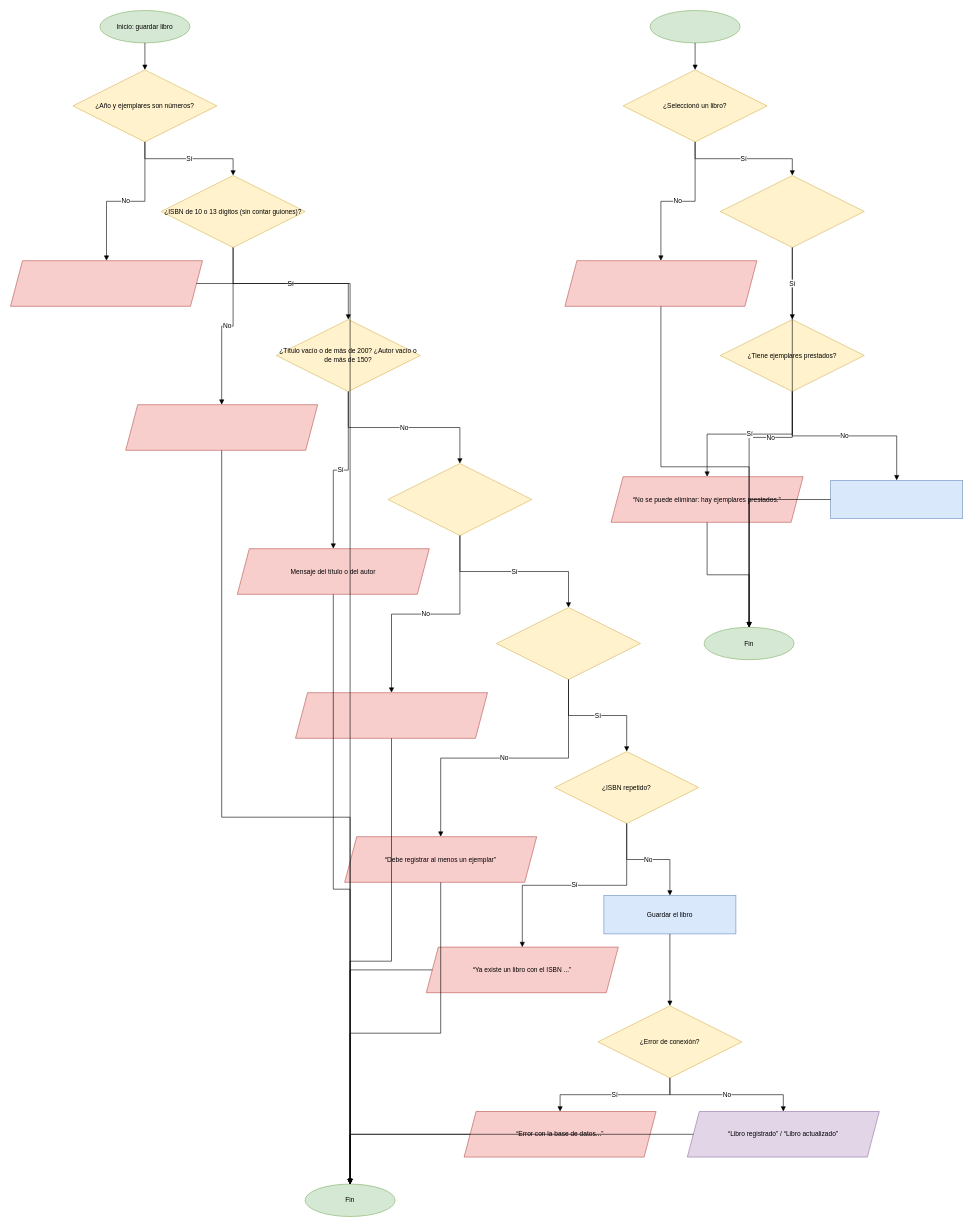
Some shapes in this 973 by 1227 pixel diagram are drawn without their labels. Here are the shapes that lost their labels. From the top down, the centre of each, then its label:
At point (695, 26): "Inicio: eliminar libro".
At point (792, 211): "¿Confirma (Sí/No)?".
At point (106, 283): "“El año debe ser un número entero” / “Los ejemplares deben ser un número entero”".
At point (660, 283): "Mensaje: seleccionar un libro".
At point (221, 427): "“El ISBN debe tener 10 o 13 dígitos.”".
At point (459, 499): "¿Año entre 1450 y el año actual?".
At point (896, 499): "Eliminar el libro".
At point (568, 643): "¿Ejemplares ≥ 1?".
At point (391, 715): "“El año debe estar entre 1450 y ...”".
